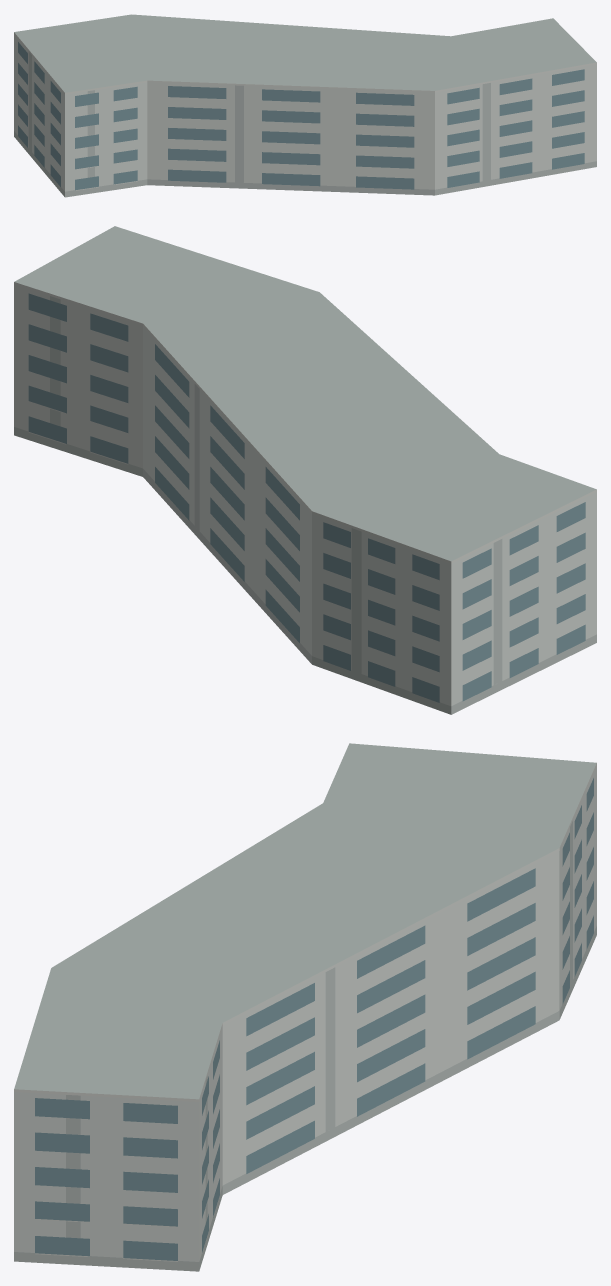
File: residential-c6d85356-7748-4651-a697-e1b3918ca7e7.glb
3 views of the same model, one above another, from view 1: azimuth 30°, elevation 25°; view 2: azimuth 150°, elevation 25°; view 3: azimuth 270°, elevation 25° (orthographic). The views are drawn at different scales.
Visible parts, largest first — view 1: residential-c6d85356-7748-4651-a697-e1b3918ca7e7.tmp; view 2: residential-c6d85356-7748-4651-a697-e1b3918ca7e7.tmp; view 3: residential-c6d85356-7748-4651-a697-e1b3918ca7e7.tmp.
Boxes of the visible parts, box(x1,y1,x2,y2) form: residential-c6d85356-7748-4651-a697-e1b3918ca7e7.tmp: box(14, 14, 596, 197); residential-c6d85356-7748-4651-a697-e1b3918ca7e7.tmp: box(14, 226, 596, 714); residential-c6d85356-7748-4651-a697-e1b3918ca7e7.tmp: box(14, 743, 596, 1271).
Bounding box in the file's own units: 67.59 × 15.25 × 46.77.
